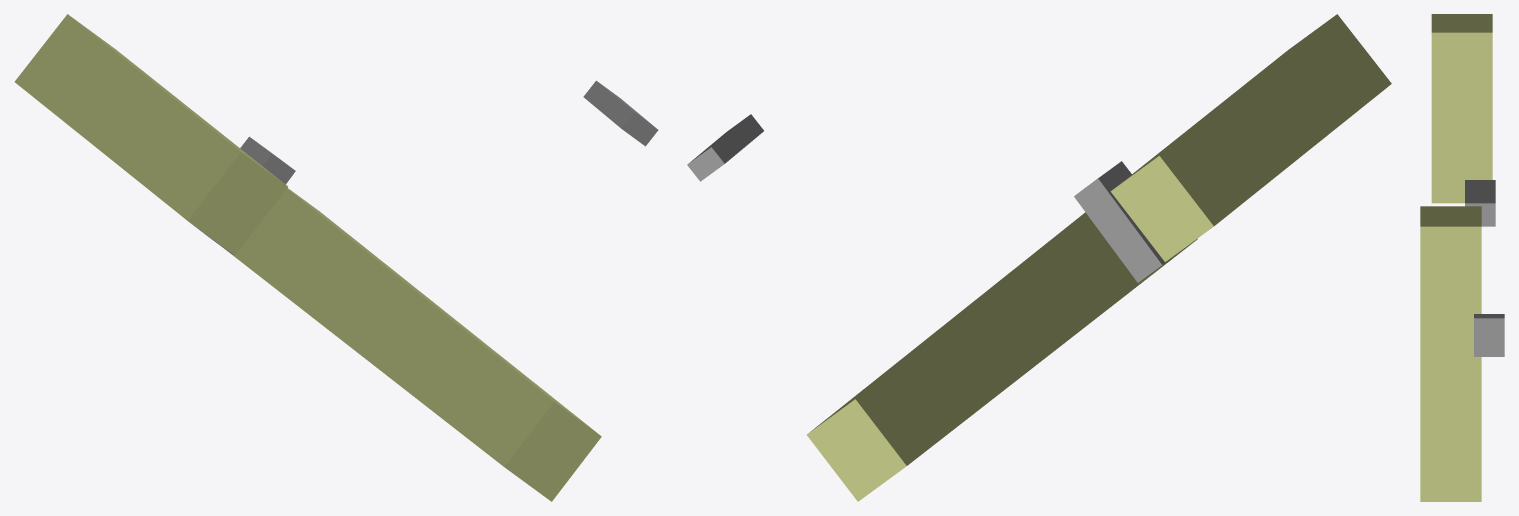
The picture shows the model from 3 angles, left to right: view 1: azimuth 30°, elevation 25°; view 2: azimuth 150°, elevation 25°; view 3: azimuth 270°, elevation 25°; orthographic projection. The views are drawn at different scales.
Parts seen in each view (by area): view 1: 0_1_2_0_0_2_3_3_0; view 2: 0_1_2_0_0_2_3_3_0; view 3: 0_1_2_0_0_2_3_3_0.
Part boxes in pixels (x1,y1,x2,y2): 0_1_2_0_0_2_3_3_0: (14,14,658,501); 0_1_2_0_0_2_3_3_0: (687,14,1391,501); 0_1_2_0_0_2_3_3_0: (1420,14,1504,501).
Bounding box in the file's own units: 45.8 × 38.31 × 8.26.
